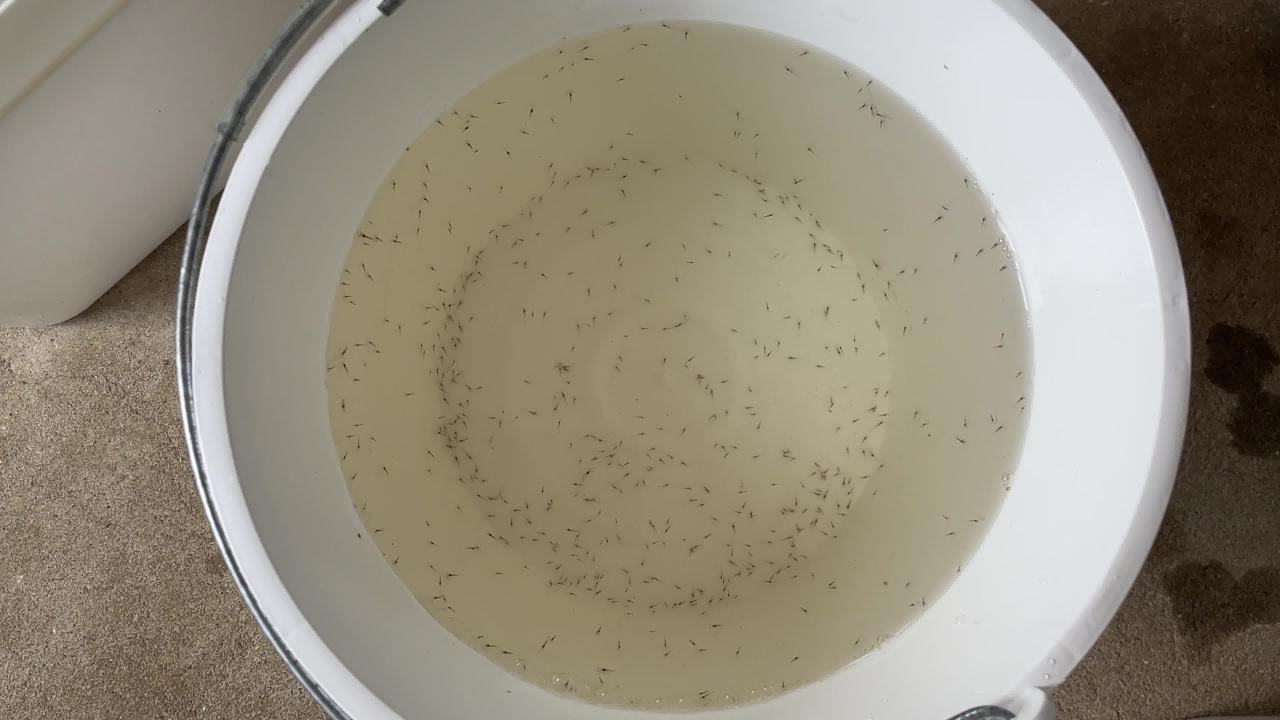shrimp: (657, 655, 669, 663), (655, 641, 667, 649), (685, 638, 697, 646), (695, 645, 707, 653), (707, 622, 719, 630), (734, 649, 746, 657), (697, 611, 709, 619), (688, 605, 700, 613), (687, 599, 699, 607), (687, 594, 699, 602), (693, 587, 705, 595), (702, 599, 714, 607), (713, 600, 725, 608), (722, 593, 734, 601), (727, 596, 739, 604), (719, 589, 731, 597), (715, 583, 727, 591), (714, 577, 726, 585), (722, 578, 734, 586), (731, 572, 743, 580), (727, 564, 739, 572), (726, 553, 738, 561), (720, 543, 732, 551), (741, 542, 753, 550), (741, 551, 753, 559), (743, 558, 755, 566), (738, 563, 750, 571), (743, 569, 755, 577), (759, 580, 771, 588), (765, 576, 777, 584), (771, 571, 783, 579), (778, 565, 790, 573), (785, 573, 797, 581), (764, 562, 776, 570), (782, 553, 794, 561), (786, 557, 798, 565), (796, 554, 808, 562), (805, 570, 817, 578), (823, 579, 835, 587), (824, 584, 836, 592), (799, 606, 811, 614), (762, 540, 774, 548), (763, 529, 775, 537), (778, 535, 790, 543), (785, 542, 797, 550), (791, 527, 803, 535), (803, 523, 815, 531), (807, 521, 819, 529), (816, 529, 828, 537), (827, 534, 839, 542), (824, 523, 836, 531), (775, 513, 787, 521), (777, 507, 789, 515), (784, 508, 796, 516), (788, 499, 800, 507), (797, 508, 809, 516), (808, 510, 820, 518), (811, 509, 823, 517), (833, 513, 845, 521), (830, 505, 842, 513), (842, 504, 854, 512), (819, 492, 831, 500), (808, 493, 820, 501), (812, 488, 824, 496), (796, 483, 808, 491), (766, 481, 778, 489), (805, 472, 817, 480), (809, 461, 821, 469), (816, 465, 828, 473), (812, 472, 824, 480), (816, 474, 828, 482), (826, 473, 838, 481), (831, 468, 843, 476), (836, 478, 848, 486), (841, 478, 853, 486), (843, 489, 855, 497), (857, 475, 869, 483), (871, 464, 883, 472), (867, 491, 879, 499), (841, 448, 853, 456), (860, 434, 872, 442), (856, 449, 868, 457), (864, 450, 876, 458), (831, 426, 843, 434), (848, 417, 860, 425), (872, 422, 884, 430), (866, 407, 878, 415), (877, 412, 889, 420), (867, 393, 879, 401), (868, 388, 880, 396), (878, 390, 890, 398), (824, 408, 836, 416), (824, 400, 836, 408), (837, 385, 849, 393), (811, 362, 823, 370), (818, 346, 830, 354), (829, 347, 841, 355), (834, 347, 846, 355), (847, 336, 859, 344), (852, 349, 864, 357), (875, 352, 887, 360), (872, 320, 884, 328), (896, 328, 908, 336), (914, 317, 926, 325), (675, 601, 687, 609), (669, 603, 681, 611), (671, 584, 683, 592), (658, 600, 670, 608), (647, 601, 659, 609), (646, 609, 658, 617), (645, 629, 657, 637), (612, 642, 624, 650), (591, 628, 603, 636), (620, 614, 632, 622), (621, 606, 633, 614), (623, 599, 635, 607), (625, 596, 637, 604), (609, 601, 621, 609), (604, 597, 616, 605), (619, 590, 631, 598), (621, 581, 633, 589), (620, 569, 632, 577), (638, 580, 650, 588), (648, 576, 660, 584), (634, 563, 646, 571), (686, 547, 698, 555), (679, 537, 691, 545), (698, 535, 710, 543), (708, 516, 720, 524), (726, 525, 738, 533), (729, 508, 741, 516), (742, 513, 754, 521), (736, 505, 748, 513), (736, 491, 748, 499), (732, 480, 744, 488), (640, 547, 652, 555), (648, 542, 660, 550), (658, 543, 670, 551), (641, 521, 653, 529), (658, 529, 670, 537), (660, 518, 672, 526), (695, 503, 707, 511), (690, 499, 702, 507), (681, 487, 693, 495), (700, 488, 712, 496), (662, 483, 674, 491), (611, 535, 623, 543), (607, 518, 619, 526), (601, 536, 613, 544), (593, 540, 605, 548), (585, 572, 597, 580), (589, 572, 601, 580), (591, 573, 603, 581), (587, 581, 599, 589), (590, 590, 602, 598), (566, 592, 578, 600), (543, 580, 555, 588), (551, 580, 563, 588), (552, 575, 564, 583), (556, 577, 568, 585), (568, 579, 580, 587), (551, 565, 563, 573), (542, 560, 554, 568), (490, 571, 502, 579), (518, 565, 530, 573), (588, 557, 600, 565), (582, 551, 594, 559), (568, 554, 580, 562), (571, 544, 583, 552), (571, 536, 583, 544), (565, 528, 577, 536), (580, 518, 592, 526), (591, 509, 603, 517), (582, 498, 594, 506), (569, 481, 581, 489), (579, 472, 591, 480), (607, 486, 619, 494), (615, 490, 627, 498), (631, 484, 643, 492), (640, 482, 652, 490), (619, 474, 631, 482), (619, 461, 631, 469), (614, 463, 626, 471), (604, 463, 616, 471), (588, 458, 600, 466), (572, 461, 584, 469), (565, 443, 577, 451), (577, 435, 589, 443), (590, 435, 602, 443), (596, 447, 608, 455), (604, 455, 616, 463), (607, 448, 619, 456), (614, 443, 626, 451), (546, 550, 558, 558), (549, 545, 561, 553), (545, 542, 557, 550), (538, 531, 550, 539), (531, 538, 543, 546), (541, 508, 553, 516), (541, 502, 553, 510), (544, 501, 556, 509), (536, 489, 548, 497), (523, 520, 535, 528), (508, 520, 520, 528), (511, 510, 523, 518), (522, 502, 534, 510), (483, 533, 495, 541), (494, 535, 506, 543), (515, 537, 527, 545), (483, 509, 495, 517), (470, 495, 482, 503), (481, 495, 493, 503), (497, 499, 509, 507), (466, 546, 478, 554), (450, 507, 462, 515), (455, 479, 467, 487), (464, 479, 476, 487), (466, 474, 478, 482), (475, 479, 487, 487), (470, 467, 482, 475), (449, 458, 461, 466), (462, 454, 474, 462), (422, 450, 434, 458), (422, 466, 434, 474), (420, 516, 432, 524), (425, 537, 437, 545), (424, 560, 436, 568), (448, 570, 460, 578), (433, 579, 445, 587), (427, 591, 439, 599), (438, 593, 450, 601), (443, 603, 455, 611), (473, 632, 485, 640), (482, 641, 494, 649), (500, 647, 512, 655), (535, 646, 547, 654), (543, 639, 555, 647), (444, 445, 456, 453), (442, 438, 454, 446), (452, 432, 464, 440), (456, 437, 468, 445), (431, 432, 443, 440), (433, 425, 445, 433), (439, 428, 451, 436), (434, 415, 446, 423), (445, 422, 457, 430), (451, 417, 463, 425), (456, 414, 468, 422), (459, 427, 471, 435), (437, 398, 449, 406), (437, 390, 449, 398), (436, 385, 448, 393), (438, 374, 450, 382), (432, 369, 444, 377), (427, 370, 439, 378), (454, 401, 466, 409), (460, 401, 472, 409), (461, 387, 473, 395), (470, 385, 482, 393), (447, 379, 459, 387), (452, 370, 464, 378), (448, 371, 460, 379), (448, 365, 460, 373), (438, 359, 450, 367), (429, 346, 441, 354), (420, 350, 432, 358), (414, 346, 426, 354), (437, 347, 449, 355), (433, 335, 445, 343), (418, 320, 430, 328), (447, 346, 459, 354), (446, 340, 458, 348), (452, 338, 464, 346), (443, 325, 455, 333), (420, 307, 432, 315), (430, 307, 442, 315), (452, 325, 464, 333), (461, 319, 473, 327), (443, 314, 455, 322), (436, 305, 448, 313), (439, 303, 451, 311), (449, 303, 461, 311), (437, 290, 449, 298), (449, 288, 461, 296), (425, 265, 437, 273), (456, 286, 468, 294), (459, 277, 471, 285), (463, 274, 475, 282), (470, 278, 482, 286), (475, 271, 487, 279), (469, 263, 481, 271), (459, 247, 471, 255), (472, 256, 484, 264), (474, 249, 486, 257), (485, 415, 497, 423), (493, 421, 505, 429), (509, 415, 521, 423), (482, 436, 494, 444), (484, 444, 496, 452), (523, 411, 535, 419), (522, 379, 534, 387), (547, 406, 559, 414), (553, 423, 565, 431), (548, 398, 560, 406), (558, 395, 570, 403), (565, 398, 577, 406), (560, 383, 572, 391), (554, 372, 566, 380), (558, 371, 570, 379), (559, 366, 571, 374), (550, 365, 562, 373), (567, 348, 579, 356), (514, 309, 526, 317), (524, 312, 536, 320), (535, 314, 547, 322), (571, 326, 583, 334), (580, 323, 592, 331), (585, 318, 597, 326), (611, 368, 623, 376), (615, 357, 627, 365), (632, 414, 644, 422), (632, 431, 644, 439), (651, 427, 663, 435), (645, 447, 657, 455), (642, 452, 654, 460), (641, 469, 653, 477), (644, 466, 656, 474), (653, 460, 665, 468), (661, 453, 673, 461), (676, 462, 688, 470), (677, 429, 689, 437), (707, 443, 719, 451), (715, 444, 727, 452), (718, 452, 730, 460), (724, 444, 736, 452), (744, 455, 756, 463), (786, 458, 798, 466), (778, 455, 790, 463), (777, 450, 789, 458), (781, 450, 793, 458), (754, 424, 766, 432), (746, 413, 758, 421), (742, 407, 754, 415), (741, 388, 753, 396), (722, 411, 734, 419), (705, 418, 717, 426), (706, 394, 718, 402), (717, 379, 729, 387), (702, 383, 714, 391), (691, 377, 703, 385), (681, 365, 693, 373), (682, 358, 694, 366), (659, 358, 671, 366), (750, 353, 762, 361), (749, 340, 761, 348), (729, 328, 741, 336), (762, 352, 774, 360), (759, 345, 771, 353), (771, 340, 783, 348), (786, 354, 798, 362), (792, 323, 804, 331), (782, 316, 794, 324), (761, 302, 773, 310), (679, 314, 691, 322), (670, 320, 682, 328), (657, 326, 669, 334), (639, 324, 651, 332), (622, 331, 634, 339), (605, 310, 617, 318), (579, 287, 591, 295), (607, 284, 619, 292), (642, 296, 654, 304), (669, 277, 681, 285), (684, 259, 696, 267), (678, 244, 690, 252), (822, 308, 834, 316), (846, 298, 858, 306), (859, 287, 871, 295), (853, 275, 865, 283), (870, 261, 882, 269), (884, 282, 896, 290), (878, 293, 890, 301), (892, 270, 904, 278), (907, 270, 919, 278), (830, 263, 842, 271), (815, 265, 827, 273), (835, 255, 847, 263), (823, 250, 835, 258), (820, 245, 832, 253), (809, 245, 821, 253), (804, 232, 816, 240), (810, 223, 822, 231), (790, 217, 802, 225), (792, 206, 804, 214), (791, 194, 803, 202), (782, 195, 794, 203), (773, 194, 785, 202), (776, 199, 788, 207), (761, 211, 773, 219), (749, 214, 761, 222), (714, 221, 726, 229), (701, 249, 713, 257), (721, 250, 733, 258), (711, 192, 723, 200), (713, 160, 725, 168), (724, 167, 736, 175), (742, 171, 754, 179), (747, 177, 759, 185), (754, 188, 766, 196), (756, 198, 768, 206), (681, 156, 693, 164), (649, 168, 661, 176), (639, 158, 651, 166), (621, 157, 633, 165), (605, 145, 617, 153), (622, 129, 634, 137), (616, 173, 628, 181), (609, 162, 621, 170), (603, 166, 615, 174), (617, 189, 629, 197), (583, 166, 595, 174), (586, 171, 598, 179), (570, 174, 582, 182), (561, 181, 573, 189), (549, 173, 561, 181), (544, 164, 556, 172), (543, 182, 555, 190), (525, 195, 537, 203), (532, 197, 544, 205), (560, 227, 572, 235), (579, 210, 591, 218), (600, 220, 612, 228), (587, 230, 599, 238), (641, 242, 653, 250), (613, 263, 625, 271), (613, 257, 625, 265), (562, 272, 574, 280), (539, 273, 551, 281), (521, 264, 533, 272), (510, 262, 522, 270), (507, 241, 519, 249), (515, 237, 527, 245), (534, 232, 546, 240), (525, 212, 537, 220), (500, 225, 512, 233), (485, 226, 497, 234), (493, 236, 505, 244), (731, 111, 743, 119), (729, 129, 741, 137), (733, 134, 745, 142), (749, 134, 761, 142), (750, 156, 762, 164), (793, 180, 805, 188), (790, 177, 802, 185), (802, 147, 814, 155), (783, 68, 795, 76), (798, 48, 810, 56), (840, 72, 852, 80), (864, 76, 876, 84), (856, 87, 868, 95), (853, 104, 865, 112), (863, 108, 875, 116), (875, 111, 887, 119), (873, 122, 885, 130), (960, 179, 972, 187), (938, 204, 950, 212), (932, 215, 944, 223), (977, 219, 989, 227), (987, 243, 999, 251), (972, 249, 984, 257), (950, 253, 962, 261), (999, 264, 1011, 272), (997, 333, 1009, 341), (992, 345, 1004, 353), (909, 412, 921, 420), (916, 422, 928, 430), (920, 434, 932, 442), (954, 440, 966, 448), (960, 420, 972, 428), (986, 415, 998, 423), (992, 426, 1004, 434), (1012, 370, 1024, 378), (1010, 397, 1022, 405), (1014, 409, 1026, 417), (965, 517, 977, 525), (937, 513, 949, 521), (943, 530, 955, 538), (950, 567, 962, 575), (916, 597, 928, 605), (906, 600, 918, 608), (898, 585, 910, 593), (878, 580, 890, 588), (849, 639, 861, 647), (784, 658, 796, 666), (776, 682, 788, 690), (699, 696, 711, 704), (694, 690, 706, 698), (602, 666, 614, 674), (594, 677, 606, 685), (565, 686, 577, 694), (560, 681, 572, 689), (519, 663, 531, 671), (389, 559, 401, 567), (374, 527, 386, 535), (357, 503, 369, 511), (381, 468, 393, 476), (349, 475, 361, 483), (339, 453, 351, 461), (352, 441, 364, 449), (341, 433, 353, 441), (350, 423, 362, 431), (368, 437, 380, 445), (402, 390, 414, 398), (338, 404, 350, 412), (348, 379, 360, 387), (342, 367, 354, 375), (324, 365, 336, 373), (336, 348, 348, 356), (346, 341, 358, 349), (364, 338, 376, 346), (370, 347, 382, 355), (392, 326, 404, 334), (382, 317, 394, 325), (349, 300, 361, 308), (342, 293, 354, 301), (338, 280, 350, 288), (340, 266, 352, 274), (355, 262, 367, 270), (362, 271, 374, 279), (361, 241, 373, 249), (361, 230, 373, 238), (371, 237, 383, 245), (387, 237, 399, 245), (388, 233, 400, 241), (410, 227, 422, 235), (441, 230, 453, 238), (444, 224, 456, 232), (413, 210, 425, 218), (383, 182, 395, 190), (418, 196, 430, 204), (420, 185, 432, 193), (422, 168, 434, 176), (464, 188, 476, 196), (496, 187, 508, 195), (502, 149, 514, 157), (472, 150, 484, 158), (462, 144, 474, 152), (456, 127, 468, 135), (460, 121, 472, 129), (467, 114, 479, 122), (450, 109, 462, 117), (430, 119, 442, 127), (492, 97, 504, 105), (518, 128, 530, 136), (525, 106, 537, 114), (543, 118, 555, 126), (563, 91, 575, 99), (538, 71, 550, 79), (550, 68, 562, 76), (565, 61, 577, 69), (552, 48, 564, 56), (576, 45, 588, 53), (579, 55, 591, 63), (613, 79, 625, 87), (624, 49, 636, 57), (620, 24, 632, 32), (639, 43, 651, 51), (659, 22, 671, 30), (679, 31, 691, 39), (770, 251, 782, 259)
